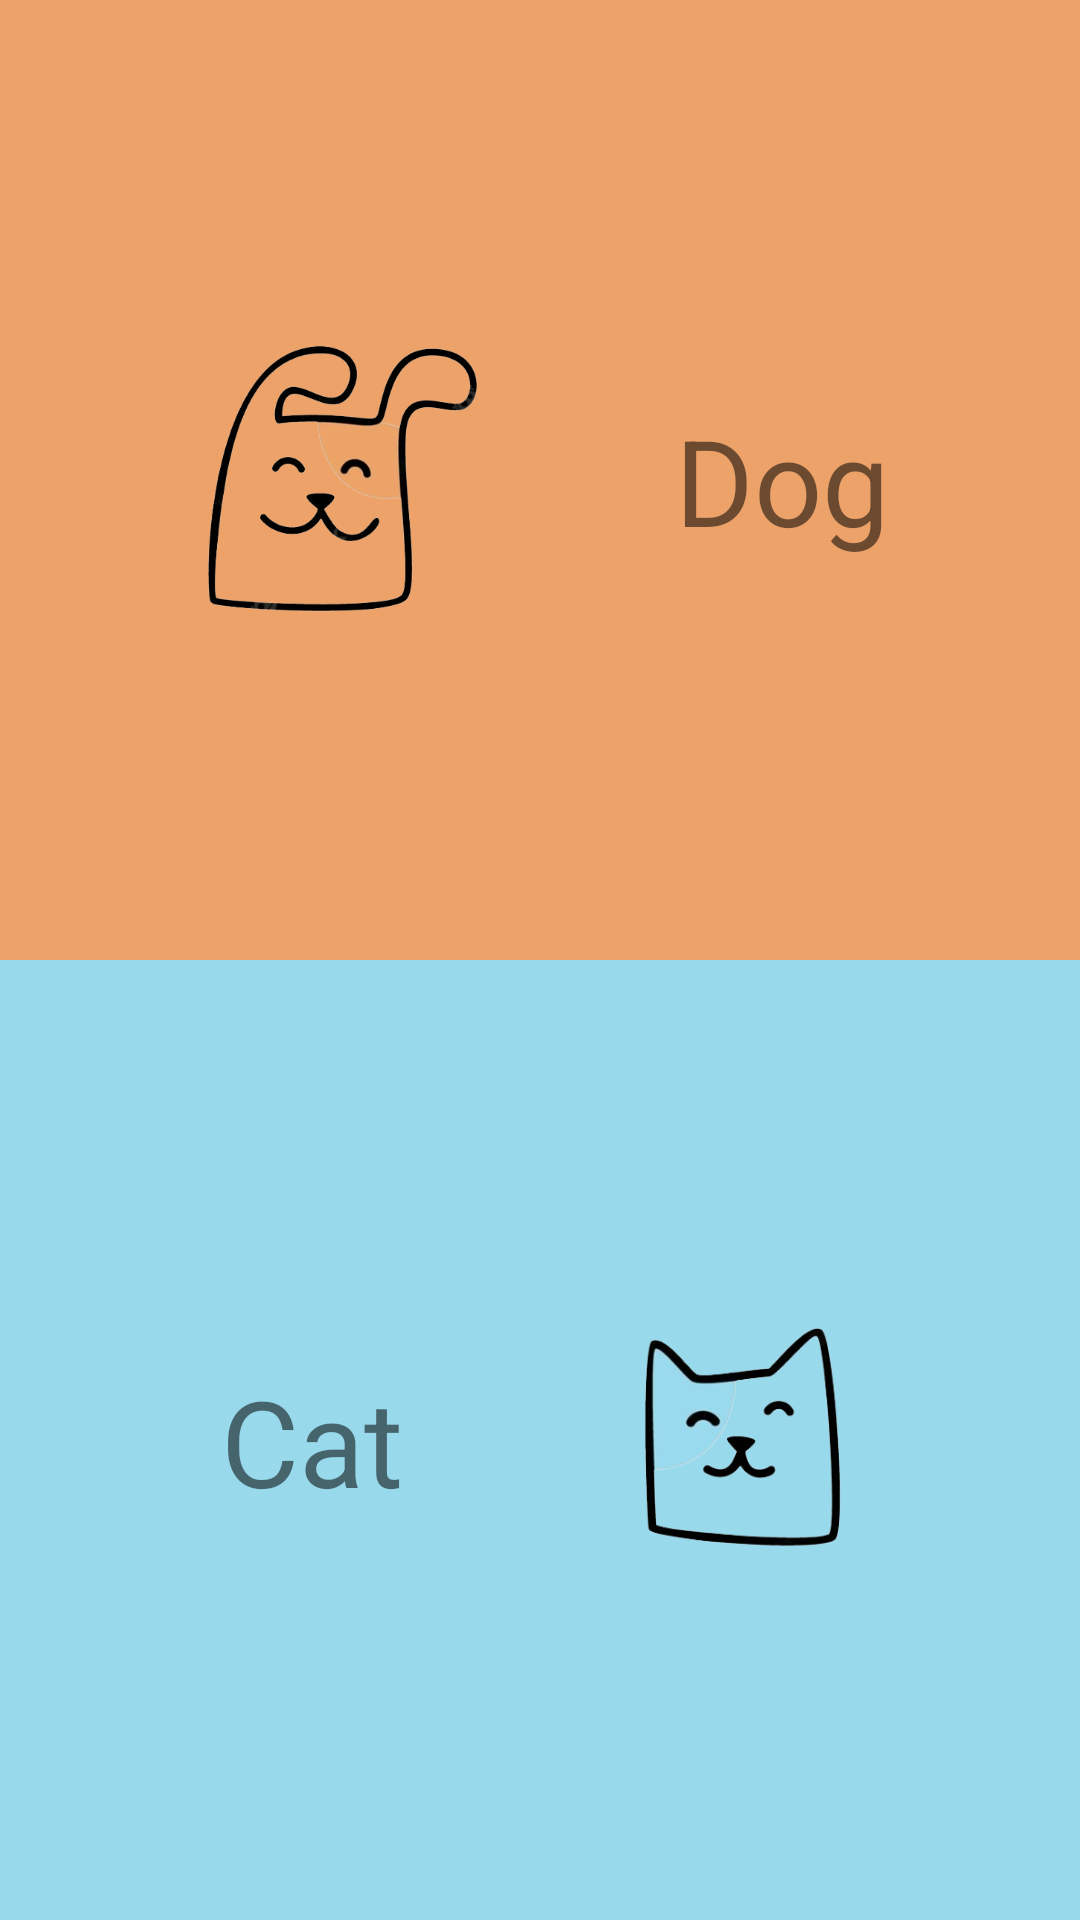

Named icons in this screenshot (1080×1920) and their centers, (x,y):
dogcat cat symbol: (742,1437)
dogcat dog symbol: (342,478)
